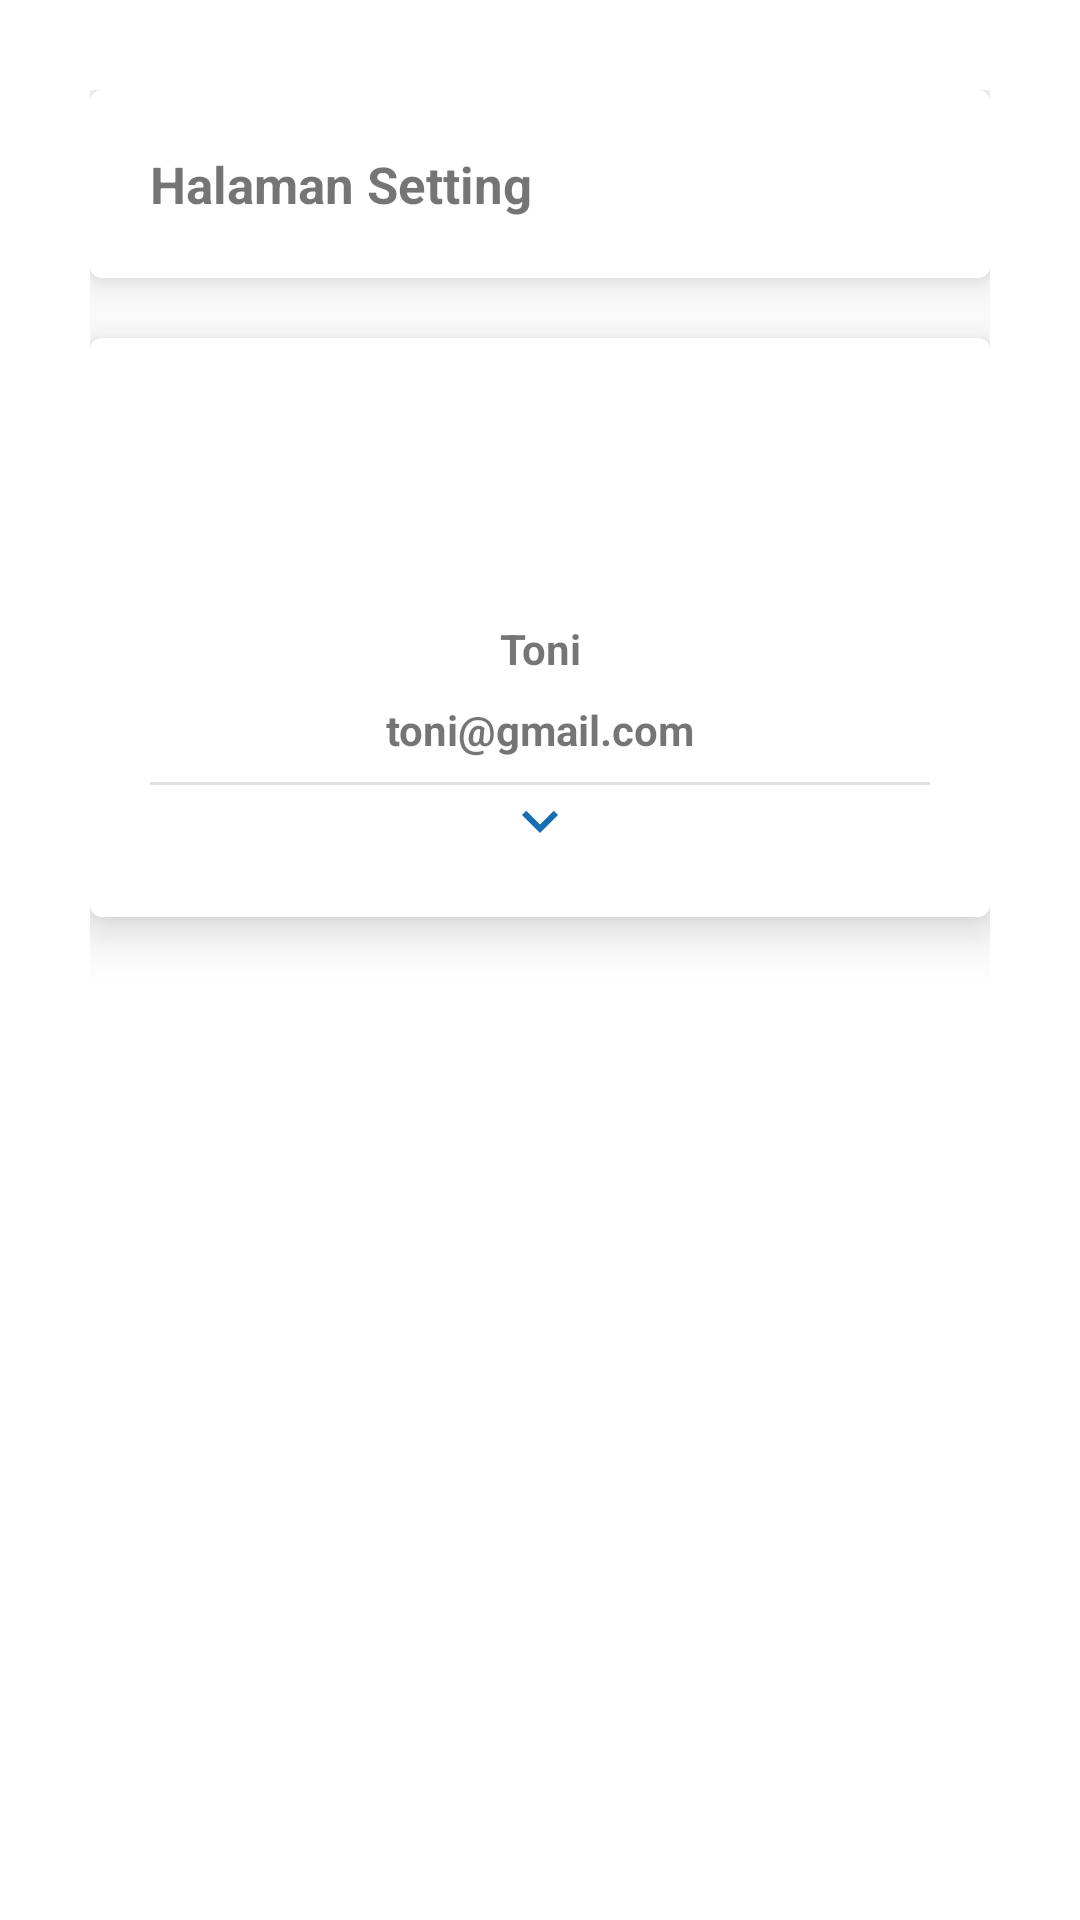

Locate icon controls on the screen. Image size 1080px×1920px, boxes as Rect(x1, y1, x2, y2).
expand more: Rect(522, 811, 558, 833)
